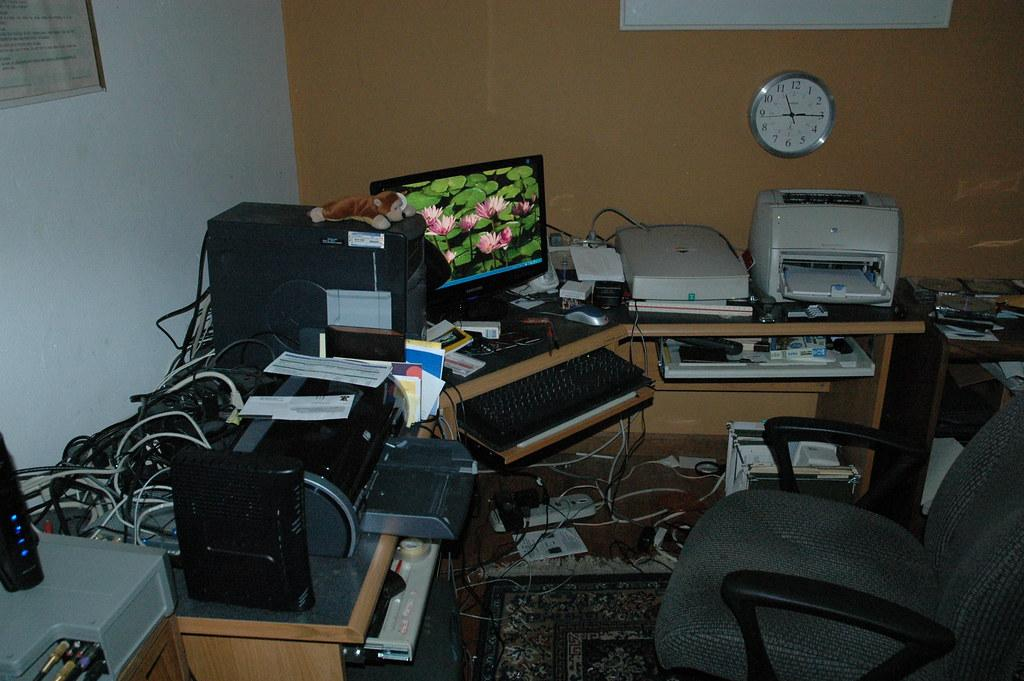computer: (206, 201, 428, 371), (232, 373, 401, 559), (370, 154, 550, 323)
